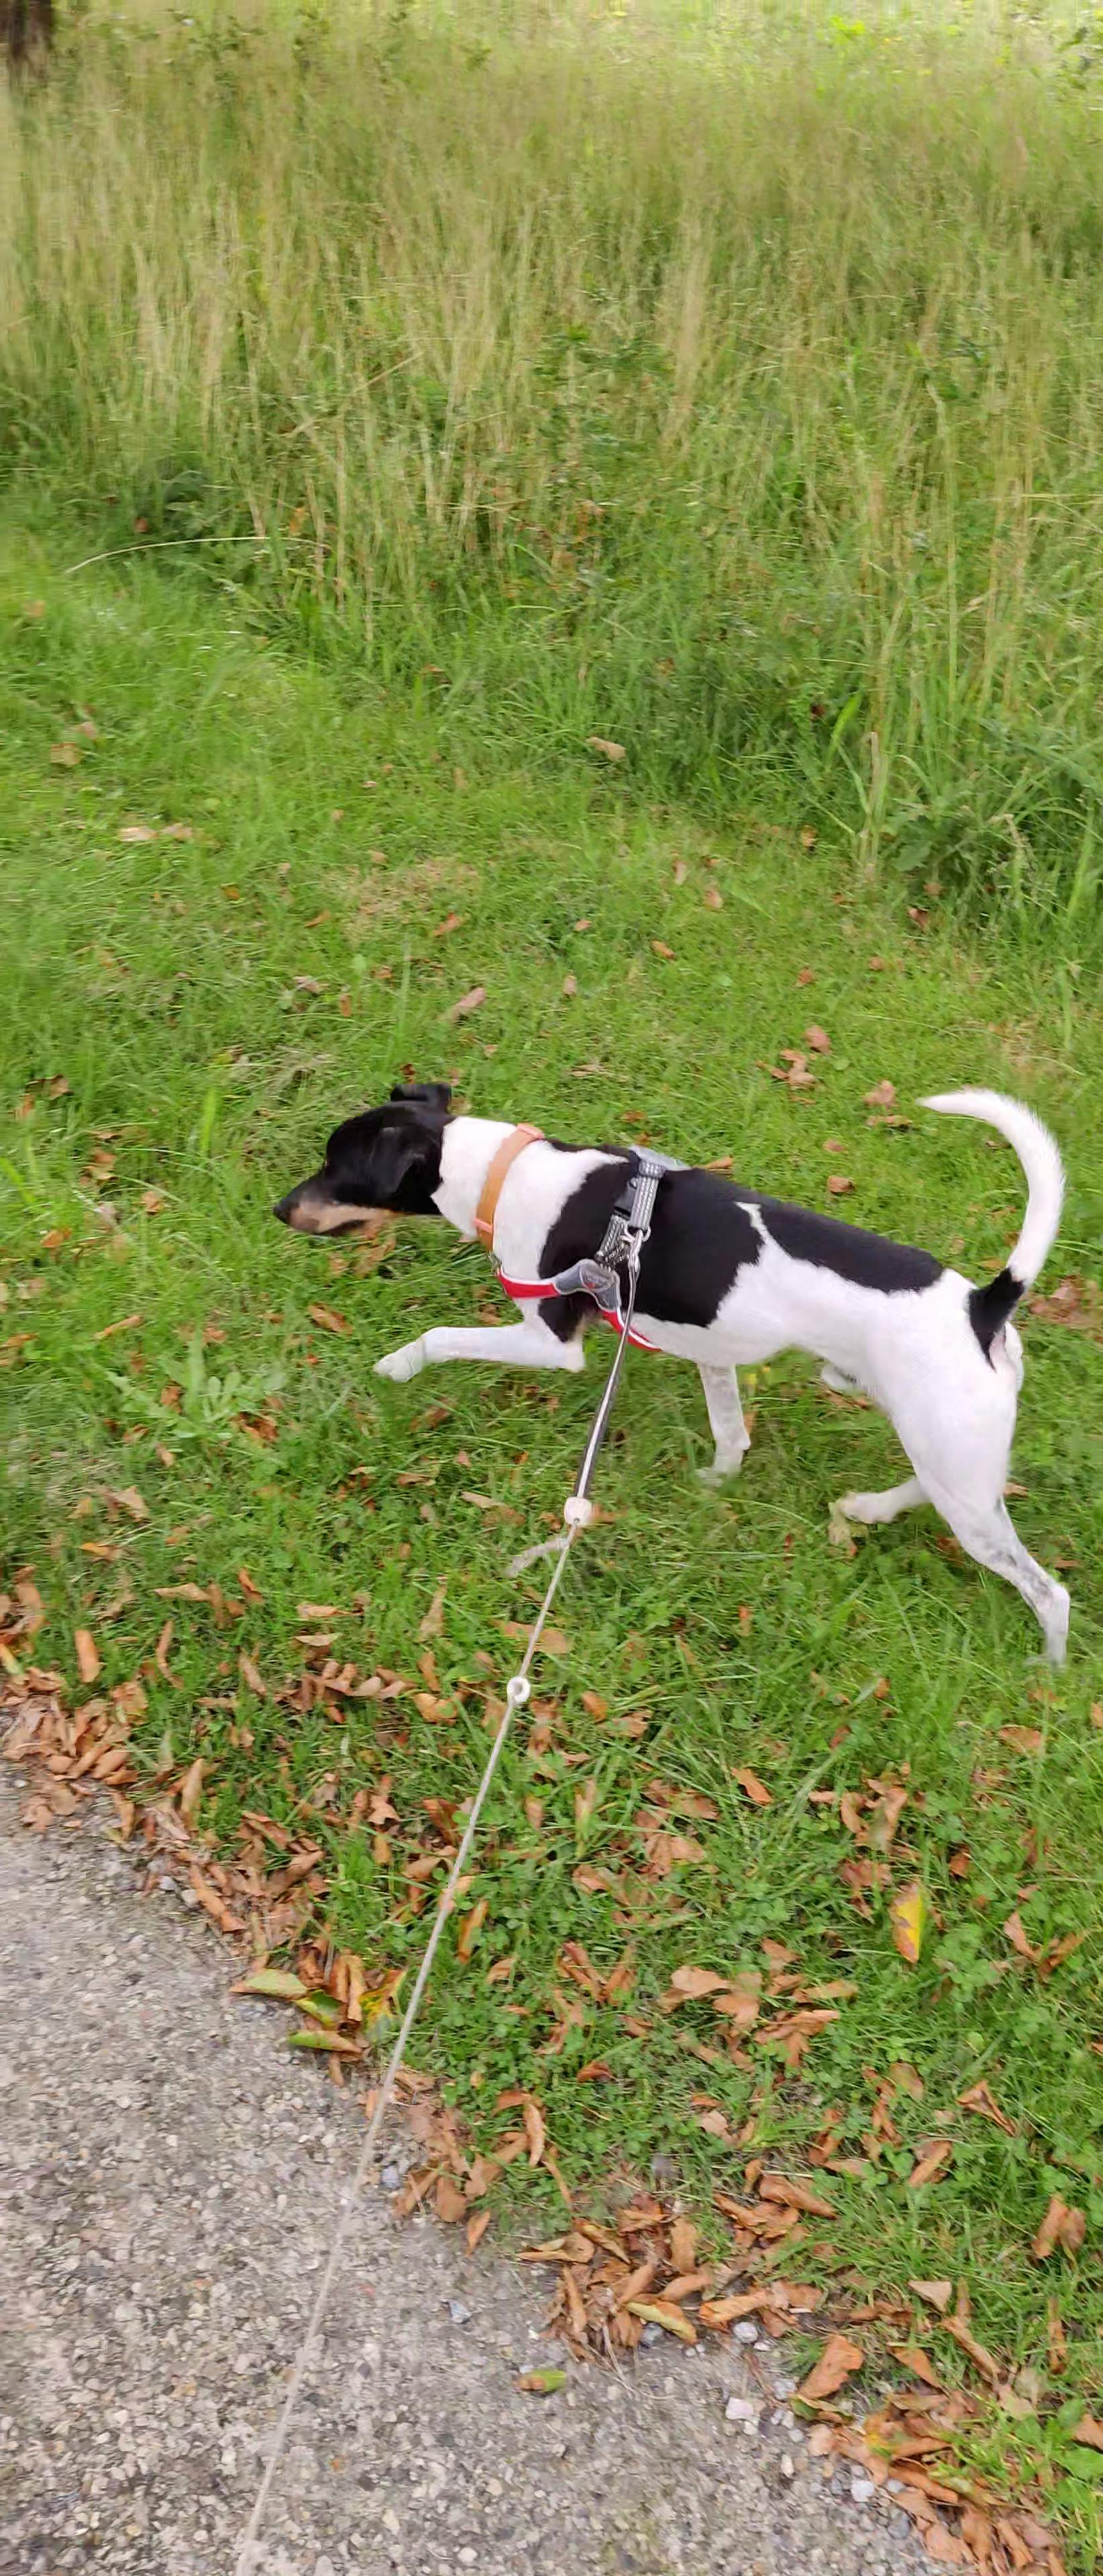Dog: (263, 1027, 1087, 1684)
